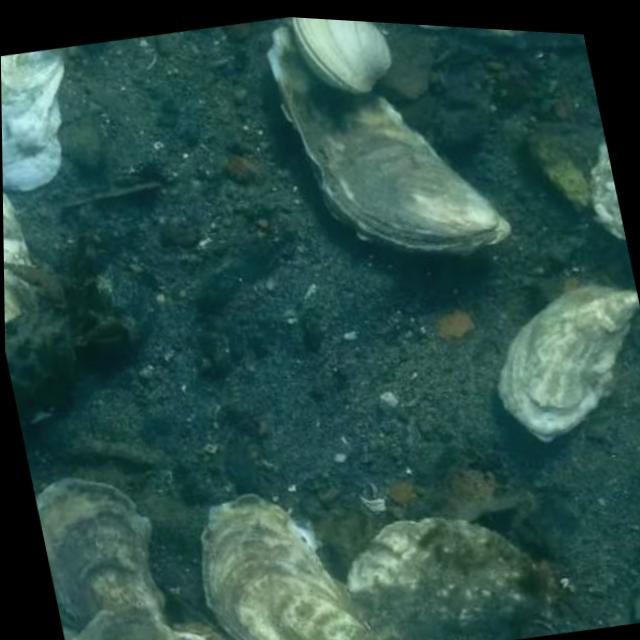Oyster-Closed: (269, 27, 512, 257)
Oyster-Indeterminate: (203, 493, 379, 640), (347, 516, 555, 640), (497, 285, 640, 440), (35, 477, 170, 627), (1, 48, 65, 190), (3, 193, 33, 321), (71, 604, 175, 640), (498, 31, 584, 48)
